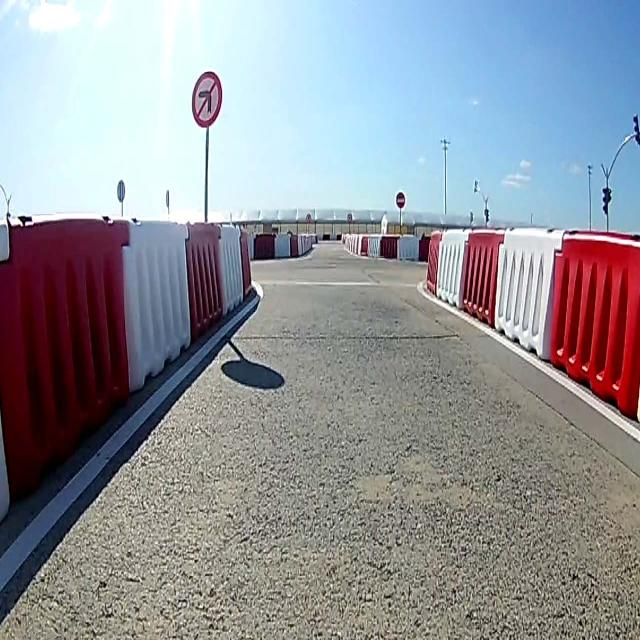girisyok: (396, 190, 406, 209)
soladonulmez: (192, 71, 222, 129)
